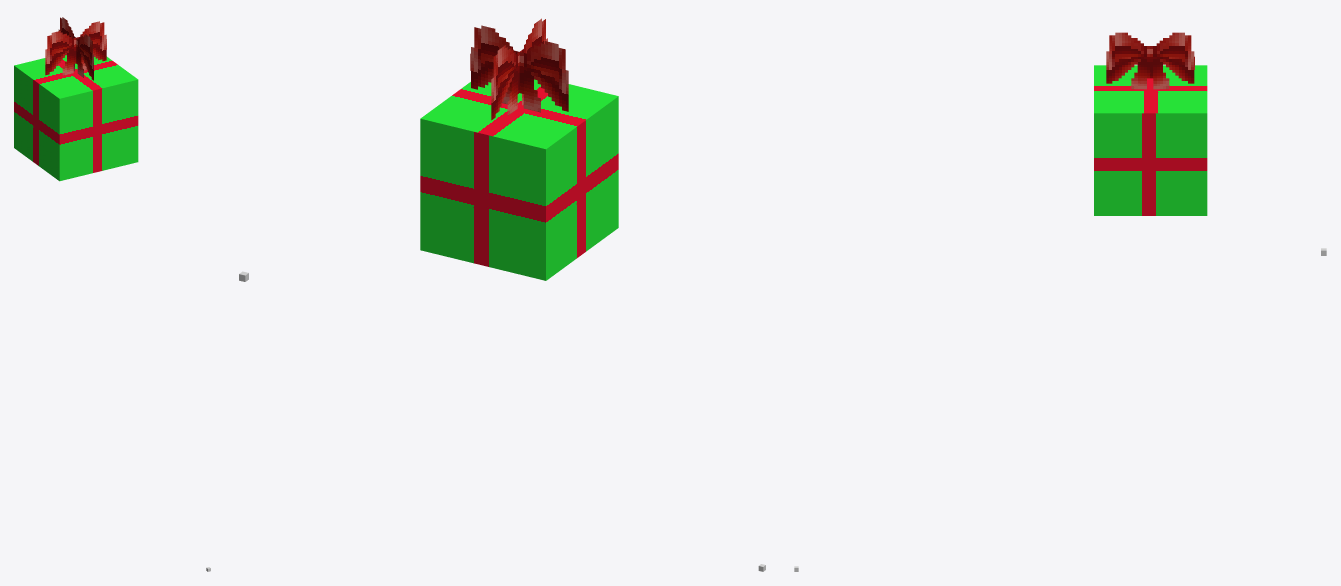
File: GreenRed.FBX
3 views of the same model, side by side, from view 1: azimuth 30°, elevation 25°; view 2: azimuth 150°, elevation 25°; view 3: azimuth 270°, elevation 25° (orthographic). The views are drawn at different scales.
Visible parts, largest first — view 1: PresentGreen; view 2: PresentGreen; view 3: PresentGreen.
Boxes of the visible parts, box(x1,y1,x2,y2) form: PresentGreen: box(14, 17, 138, 181); PresentGreen: box(420, 18, 618, 280); PresentGreen: box(1094, 32, 1207, 215).
Size of the model in its own units: 733 by 2121 by 1878.
Materials: 1 (1 with a texture image).
